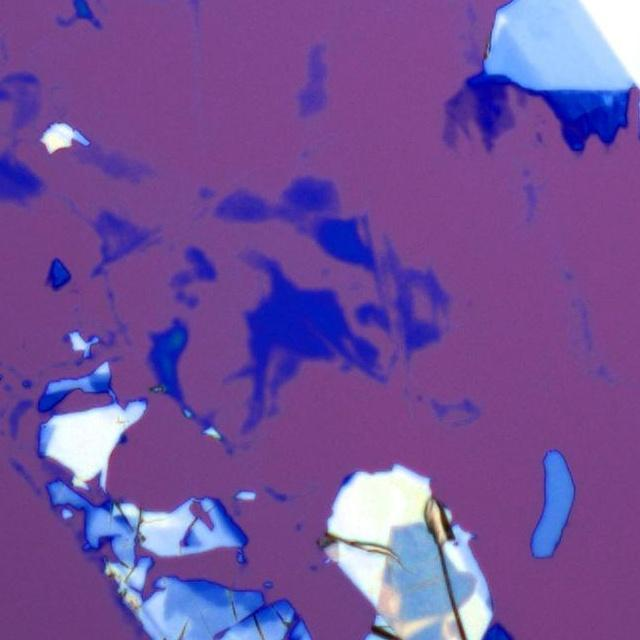monolayer-eWW4: (445, 86, 476, 148), (492, 92, 519, 140)
